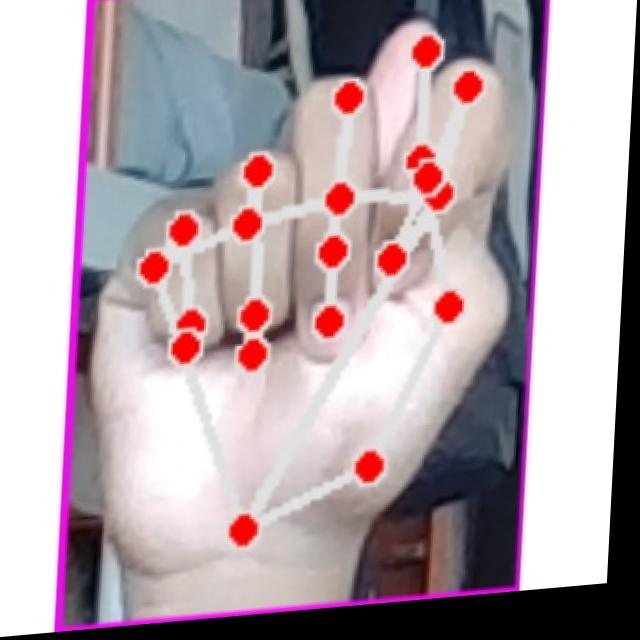T: (71, 5, 526, 587)
